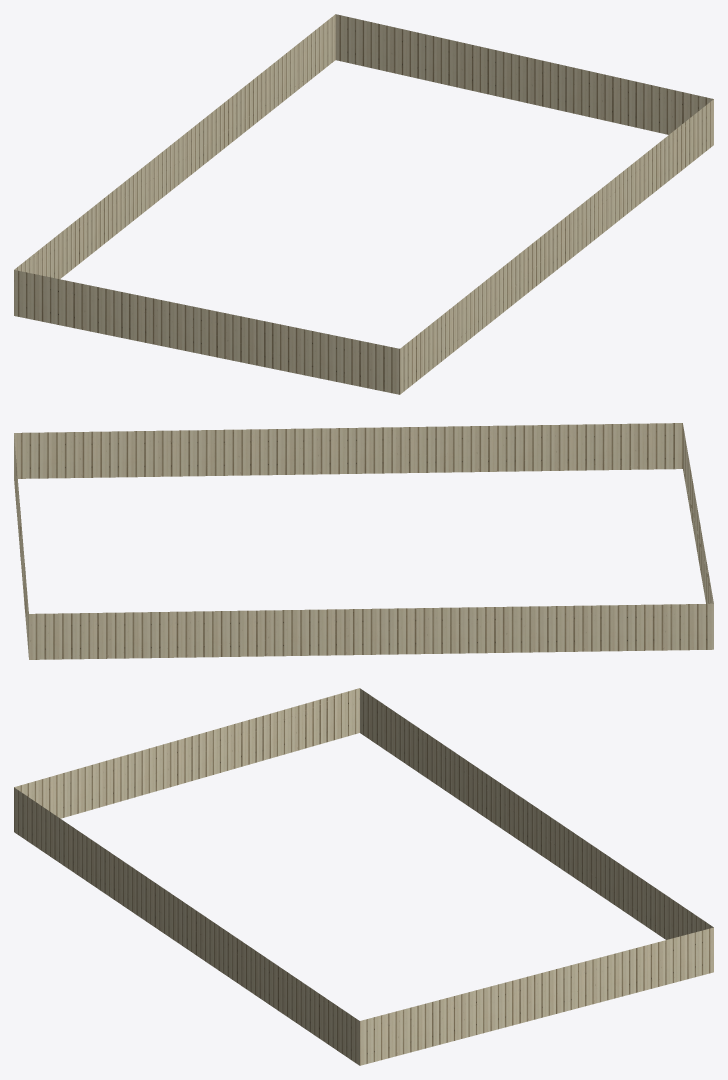
Rendered from LLHA_Fuel_fence.gltf.
The picture shows the model from 3 angles, top to bottom: view 1: azimuth 30°, elevation 25°; view 2: azimuth 150°, elevation 25°; view 3: azimuth 270°, elevation 25°; orthographic projection. The views are drawn at different scales.
Parts seen in each view (by area): view 1: node1; view 2: node1; view 3: node1.
Boxes of the visible parts, x1=… form: node1: x1=14, y1=14, x2=713, y2=394; node1: x1=14, y1=423, x2=713, y2=659; node1: x1=14, y1=688, x2=713, y2=1065.
Bounding box in the file's own units: 25.45 × 1.6 × 22.61.
1 material, 1 textured.
